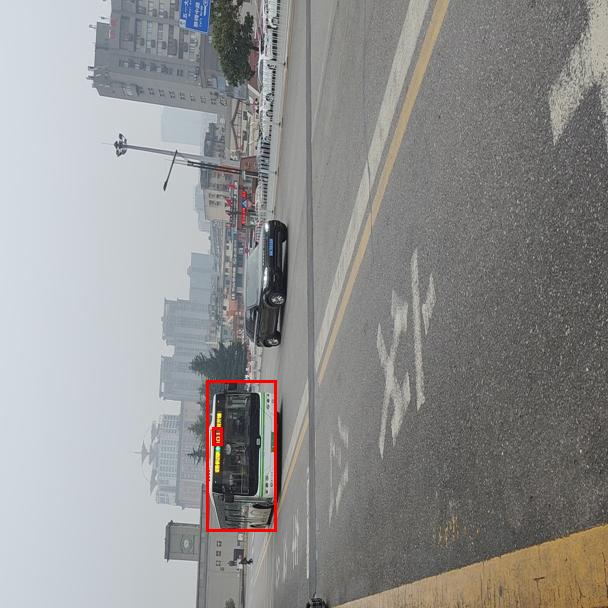bus: (206, 380, 276, 531)
screen: (212, 427, 222, 445)
